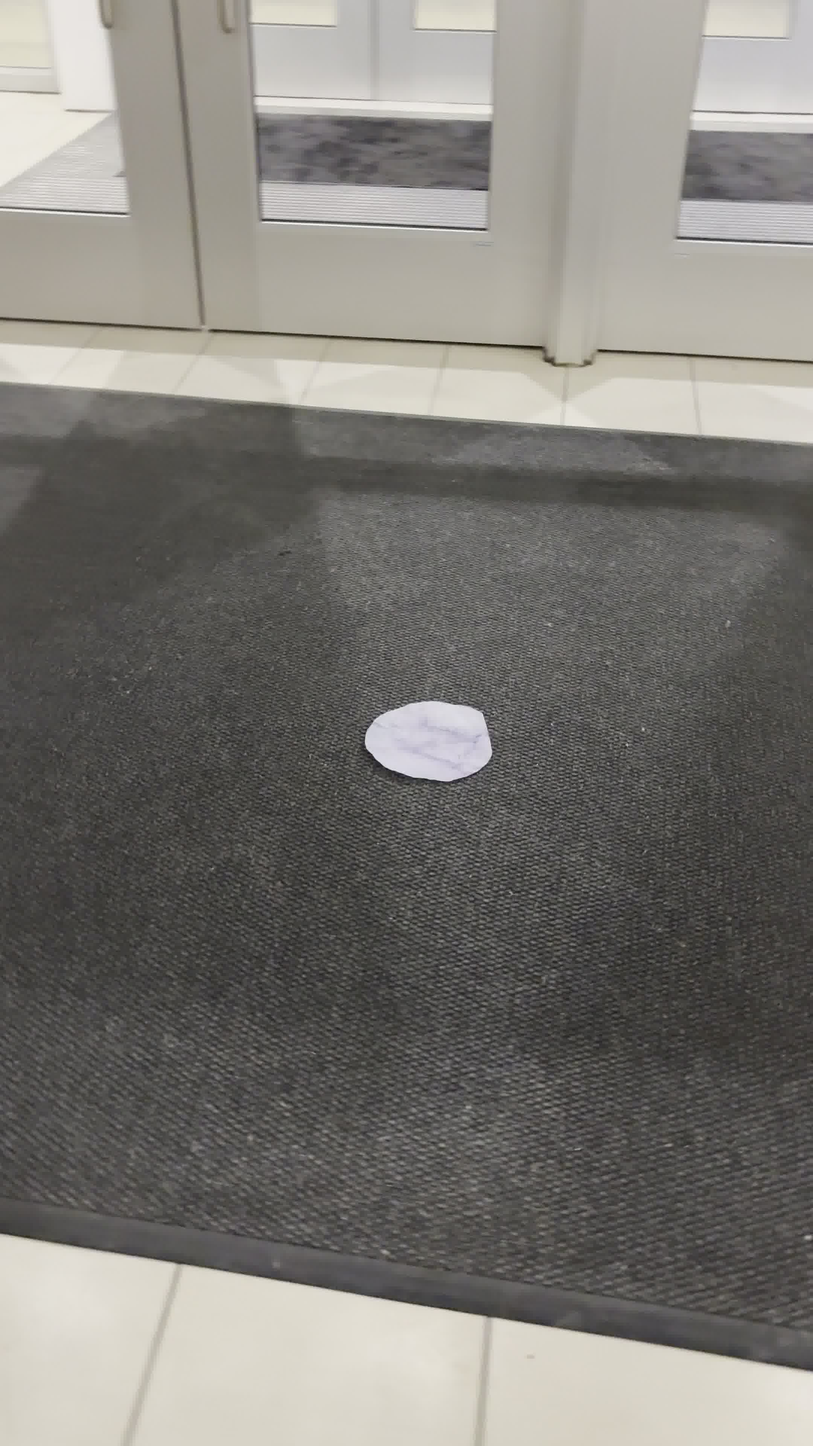Target: (365, 701, 492, 782)
